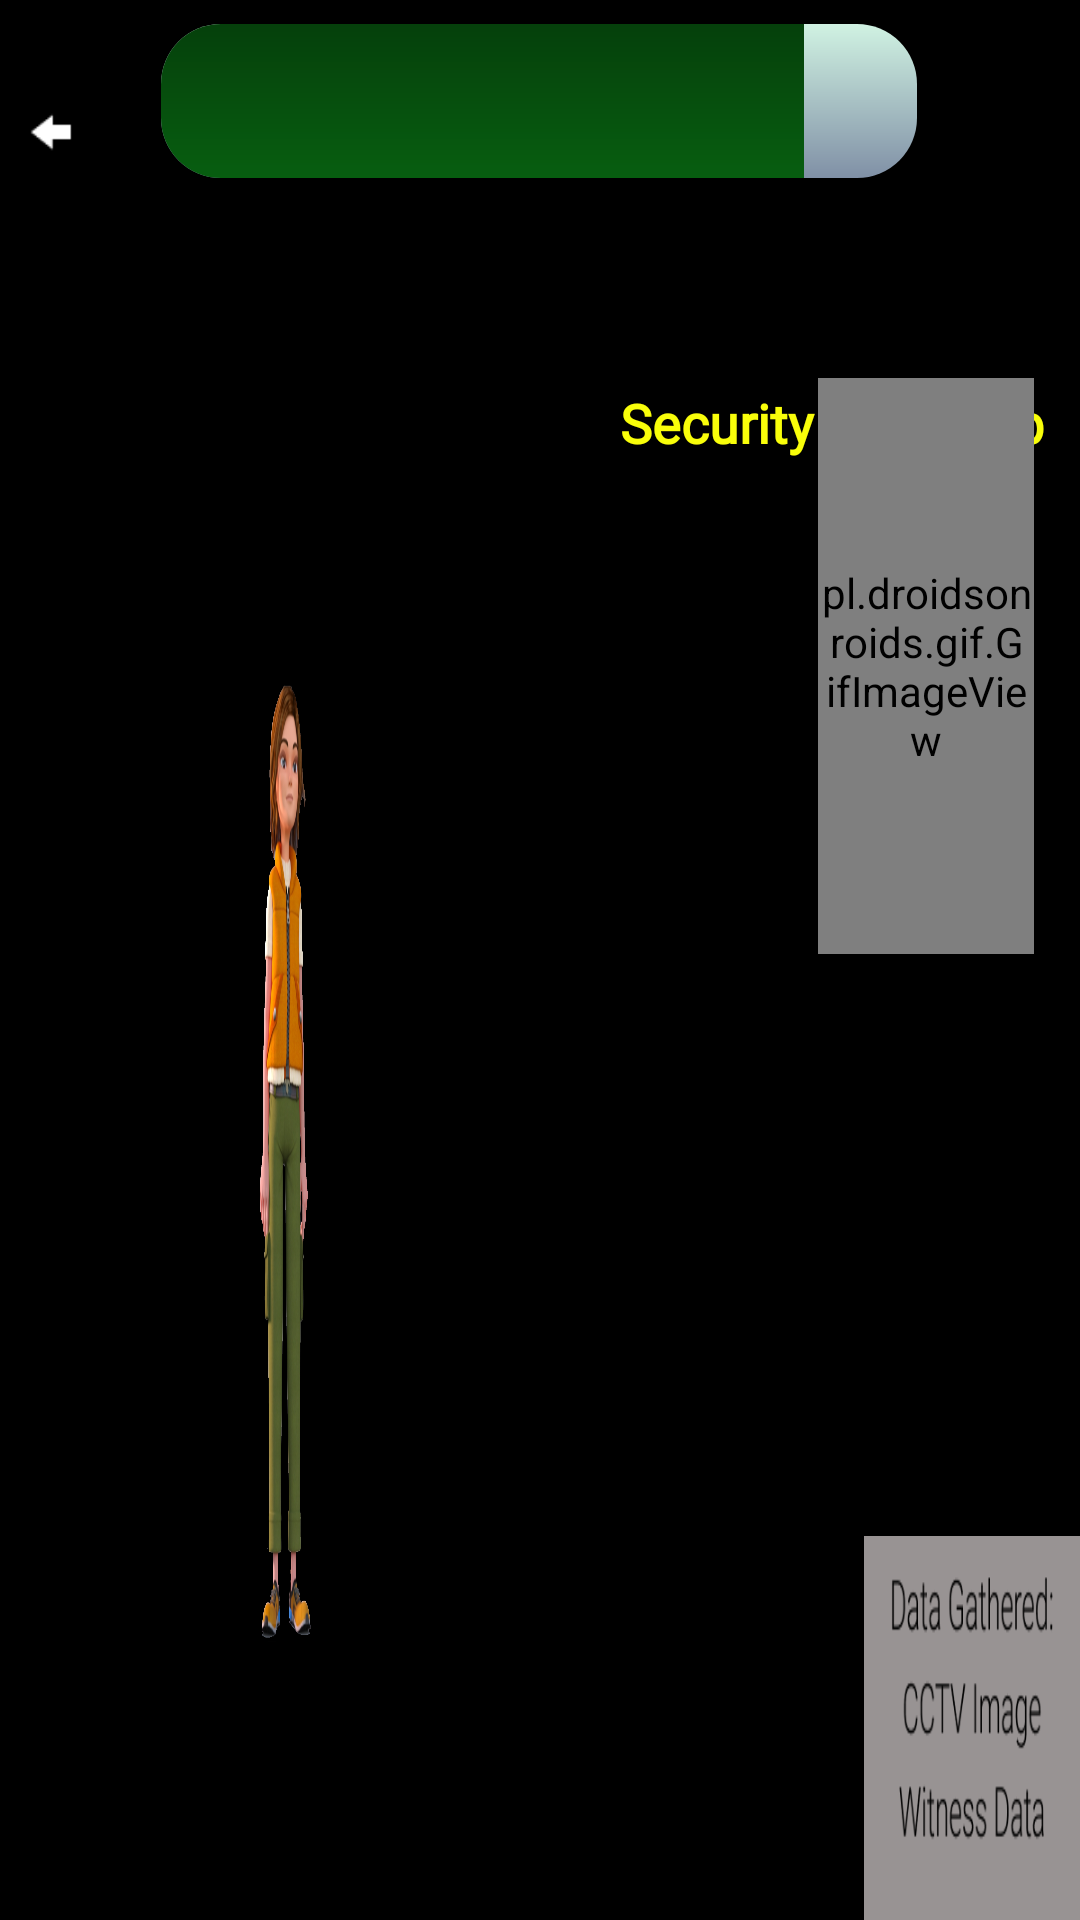

Screen size 1080 × 1920. Icon name, then its center in pixels as [x,y]:
barrow: [51,132]
